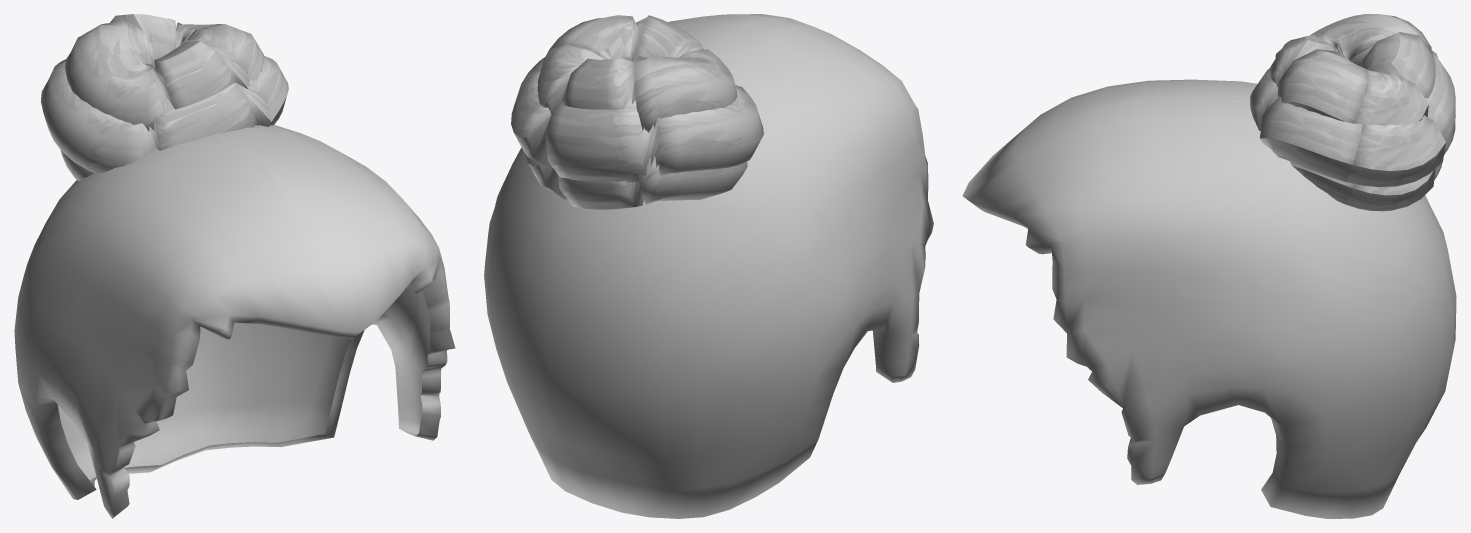
The model's file is topknot_female.glb.
3 renders of one model, left to right at view 1: azimuth 30°, elevation 25°; view 2: azimuth 150°, elevation 25°; view 3: azimuth 270°, elevation 25°, orthographic. The views are drawn at different scales.
Parts seen in each view (by area): view 1: NativeHair_Buzzed_Female; view 2: NativeHair_Buzzed_Female; view 3: NativeHair_Buzzed_Female.
Boxes of the visible parts, box(x1,y1,x2,y2) form: NativeHair_Buzzed_Female: box(14, 14, 455, 518); NativeHair_Buzzed_Female: box(484, 14, 933, 518); NativeHair_Buzzed_Female: box(962, 14, 1456, 518).
Bounding box in the file's own units: 0.1587 × 0.1999 × 0.1969.
1 material, 1 textured.
